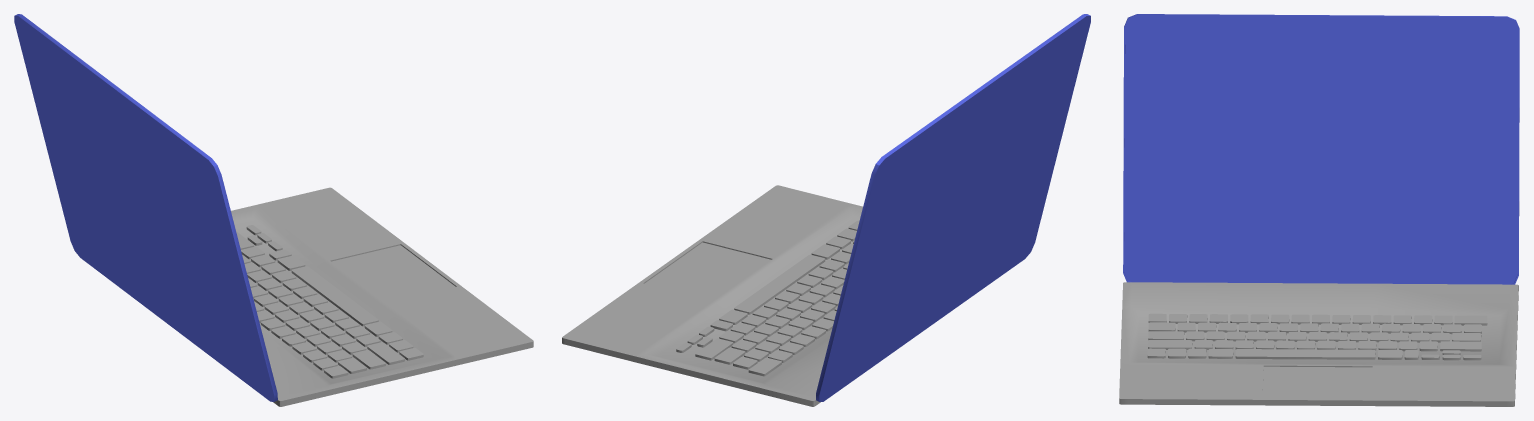
The model's file is Laptop.glb.
3 views of the same model, side by side, from view 1: azimuth 30°, elevation 25°; view 2: azimuth 150°, elevation 25°; view 3: azimuth 270°, elevation 25° (orthographic). The views are drawn at different scales.
Visible parts, largest first — view 1: tela.001; view 2: tela.001; view 3: tela.001.
Boxes of the visible parts, x1,y1,x2,y2 form: tela.001: [14, 14, 533, 406]; tela.001: [562, 14, 1090, 406]; tela.001: [1119, 14, 1519, 406].
Bounding box in the file's own units: 0.2892 × 0.222 × 0.329.
